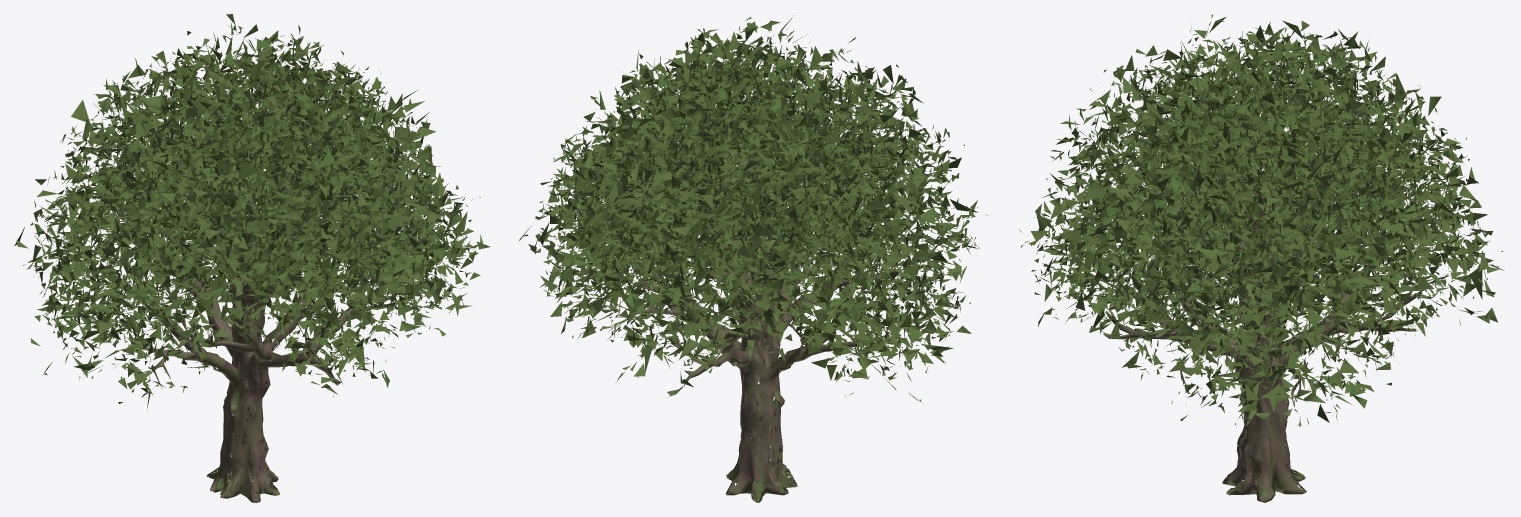
Rendered from broadleaf-tree.glb.
3 views of the same model, side by side, from view 1: azimuth 30°, elevation 25°; view 2: azimuth 150°, elevation 25°; view 3: azimuth 270°, elevation 25° (orthographic). The views are drawn at different scales.
Visible parts, largest first — view 1: Mesh_0; view 2: Mesh_0; view 3: Mesh_0.
Part boxes in pixels (x1,y1,x2,y2): Mesh_0: (14, 14, 490, 502); Mesh_0: (519, 15, 987, 502); Mesh_0: (1019, 14, 1503, 502).
Size of the model in its own units: 4.66 by 4.99 by 4.77.
Materials: 1 (1 with a texture image).
